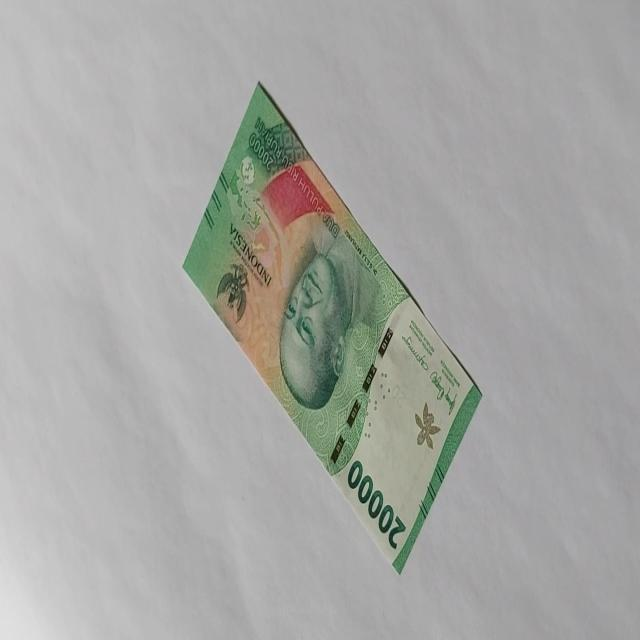dua puluh ribu rupiah: (181, 79, 483, 576), (346, 458, 406, 551)
